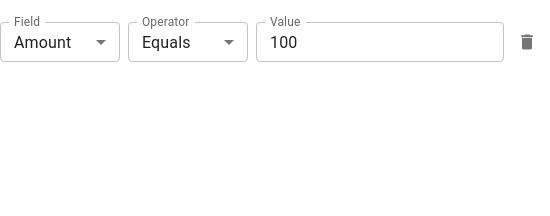
Test: AllocationConditionRow › Operator switching based on field type › shows numeric operators for amount field
The width and height of the screenshot is (550, 216).
# Open operator dropdown
What coordinates should you click on to do the following:
click the dropdown named "Operator"
I would click on:
 (166, 42)
Its box is [142,32,191,52].
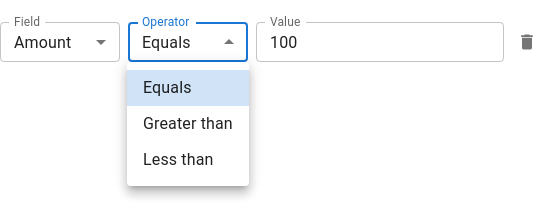
Expected: the option "Greater than" is shown, [143,114,233,133]
Expected: the option "Less than" is shown, [143,150,214,169]
